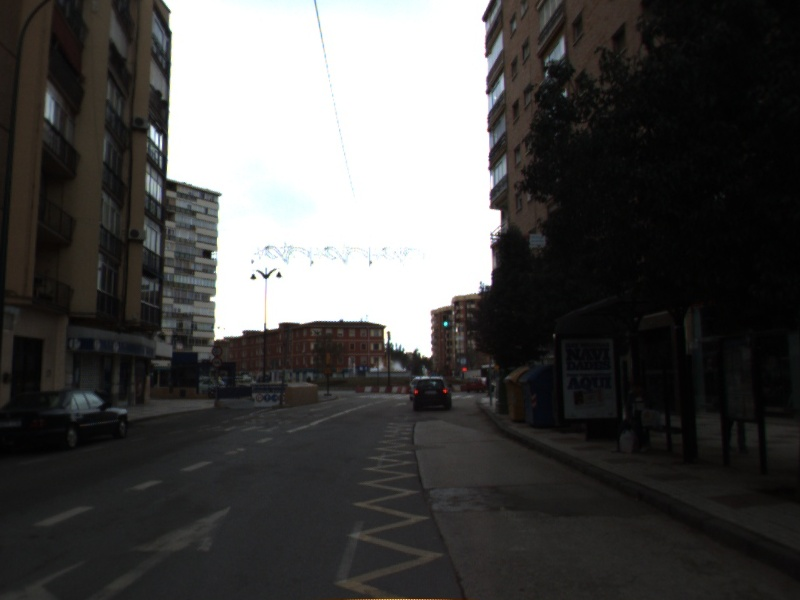STRAIGHT_LEFT: (1, 503, 232, 600)
